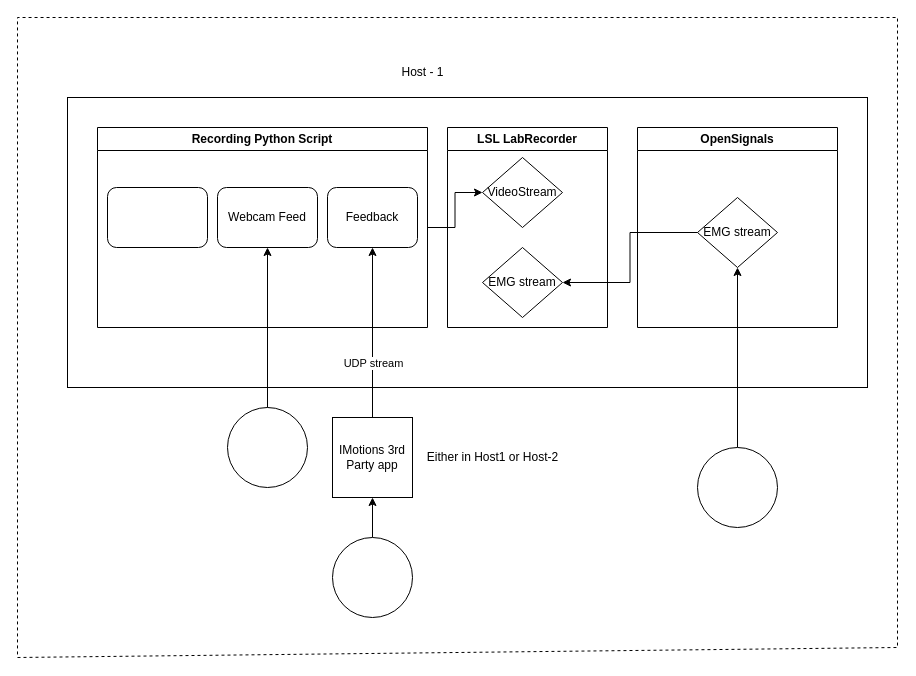
Some shapes in this 916 by 676 pixel diagram are drawn without their labels. The shapes that lost their labels are listed below. From the top down, each one's centre as x and y in pixels, then its label:
At pixel 157 217: "Stimulus Video".
At pixel 267 447: "Usb Cam -1".
At pixel 737 487: "EMG electrodes".
At pixel 372 577: "Usb - Cam 2".
